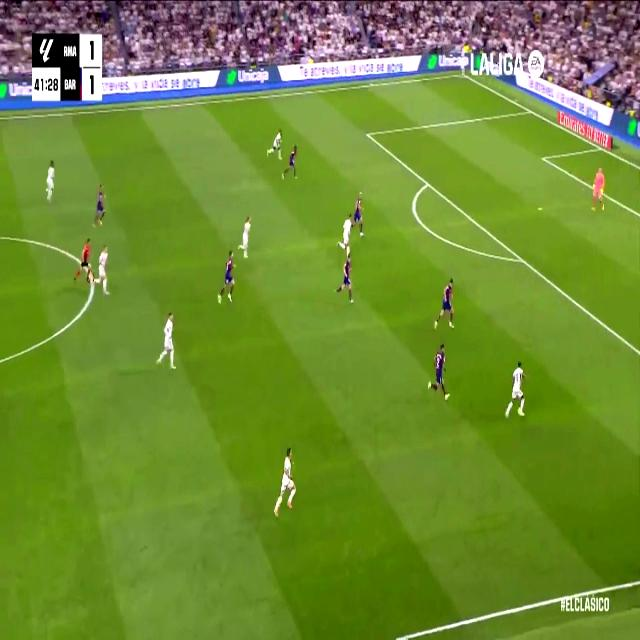bigarea_top_inner: (363, 126, 371, 142)
bigarea_top_outter: (526, 103, 534, 117)
bottom_arc_area_intersection: (516, 248, 526, 269)
corner: (458, 69, 467, 79)
smallarea_top_inner: (539, 150, 547, 166)
top_arc_area_intersection: (424, 174, 432, 192)
